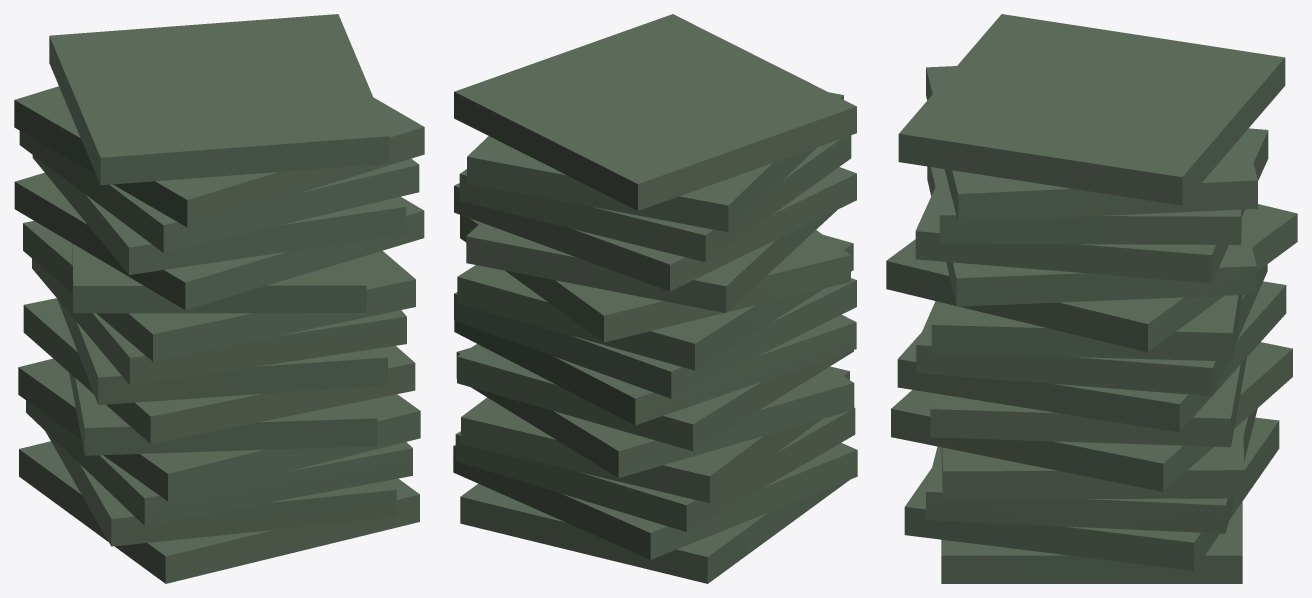
Rendered from pizza-boxes.glb.
3 renders of one model, left to right at view 1: azimuth 30°, elevation 25°; view 2: azimuth 150°, elevation 25°; view 3: azimuth 270°, elevation 25°, orthographic. The views are drawn at different scales.
Parts seen in each view (by area): view 1: PizzaBoxes.001; view 2: PizzaBoxes.001; view 3: PizzaBoxes.001.
Part boxes in pixels (x1,y1,x2,y2): PizzaBoxes.001: [14, 14, 424, 583]; PizzaBoxes.001: [453, 14, 857, 583]; PizzaBoxes.001: [886, 14, 1297, 583].
Size of the model in its own units: 0.8382 by 0.9541 by 0.8382.
Materials: 1 (1 with a texture image).
